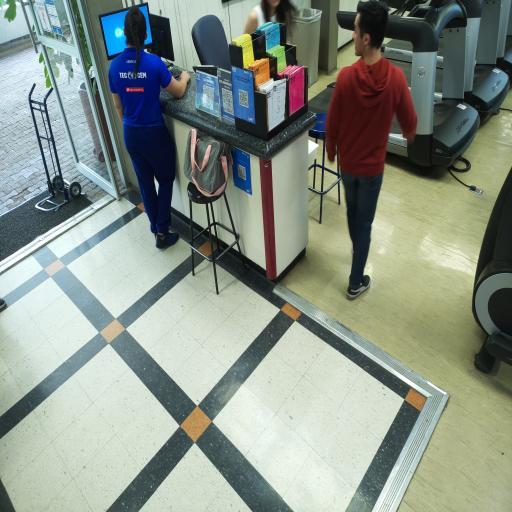person: (326, 0, 417, 299), (109, 7, 189, 248), (246, 0, 296, 36), (0, 298, 6, 311)
